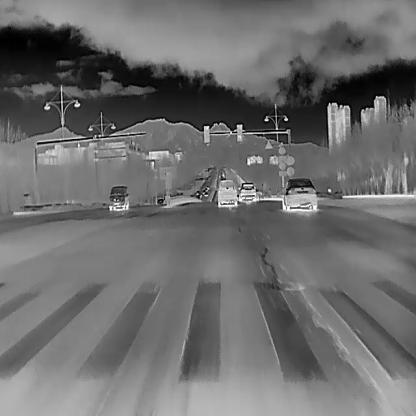car: (280, 176, 316, 212), (216, 179, 237, 207), (108, 184, 129, 212), (238, 181, 258, 202), (203, 191, 208, 196), (196, 189, 200, 195), (202, 189, 206, 194), (206, 184, 209, 190), (204, 187, 206, 191)
